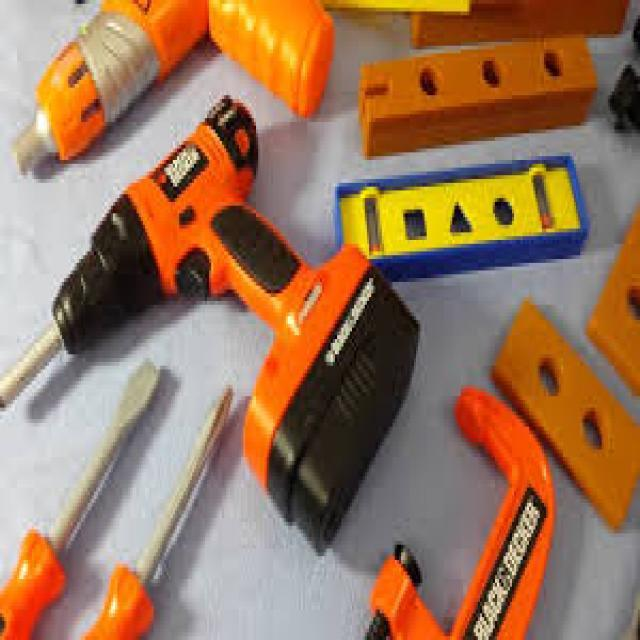drill: (0, 100, 435, 534), (0, 0, 341, 133)
